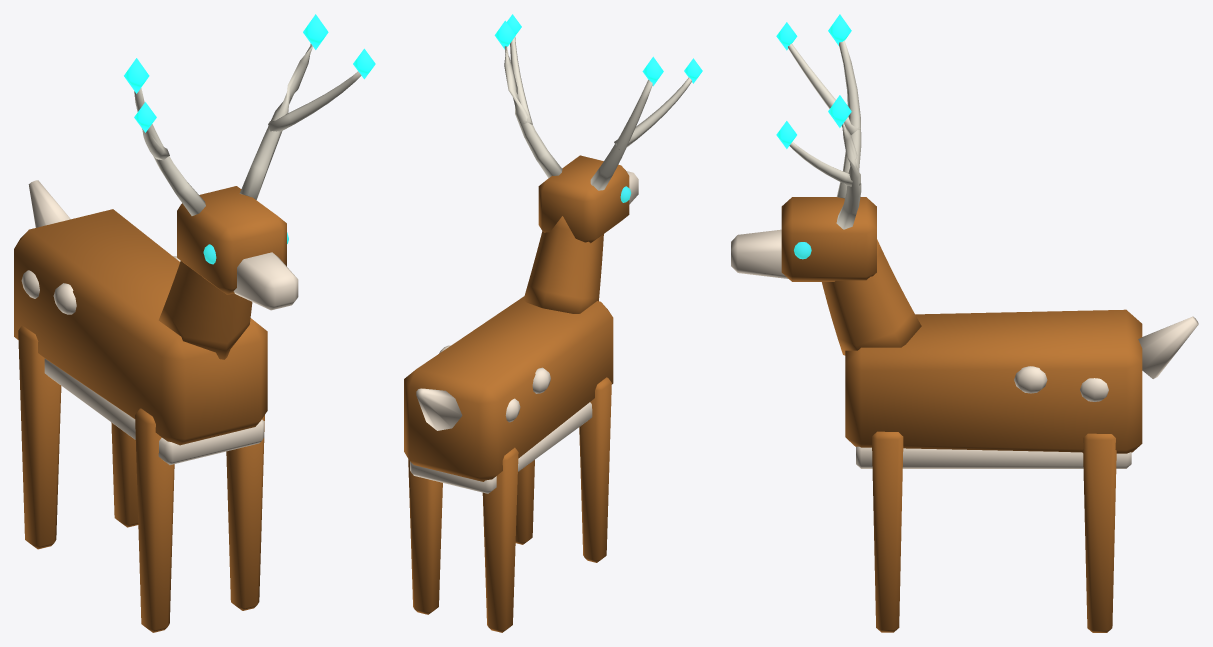
Rendered from deer.glb.
3 views of the same model, side by side, from view 1: azimuth 30°, elevation 25°; view 2: azimuth 150°, elevation 25°; view 3: azimuth 270°, elevation 25° (orthographic). The views are drawn at different scales.
Parts seen in each view (by area): view 1: Body, Head, LeftLeg, LeftArm, RightArm, RightLeg, Tail; view 2: Body, Head, LeftLeg, LeftArm, RightLeg, Tail, RightArm; view 3: Body, Head, RightLeg, RightArm, Tail.
Boxes of the visible parts, left/top/right/bottom form: Body: left=14, top=209, right=267, bottom=464; Head: left=124, top=14, right=375, bottom=359; LeftLeg: left=18, top=325, right=61, bottom=549; LeftArm: left=135, top=408, right=174, bottom=632; RightArm: left=226, top=415, right=264, bottom=610; RightLeg: left=111, top=422, right=138, bottom=527; Tail: left=28, top=180, right=70, bottom=227; Body: left=404, top=296, right=613, bottom=493; Head: left=494, top=14, right=702, bottom=313; LeftLeg: left=482, top=447, right=518, bottom=632; LeftArm: left=579, top=377, right=611, bottom=562; RightLeg: left=408, top=459, right=442, bottom=614; Tail: left=416, top=388, right=462, bottom=430; RightArm: left=515, top=460, right=534, bottom=544; Body: left=845, top=309, right=1142, bottom=468; Head: left=731, top=14, right=921, bottom=355; RightLeg: left=1083, top=433, right=1116, bottom=632; RightArm: left=872, top=431, right=903, bottom=632; Tail: left=1138, top=316, right=1198, bottom=378.
Size of the model in its own units: 0.9493 by 2.31 by 1.76.
